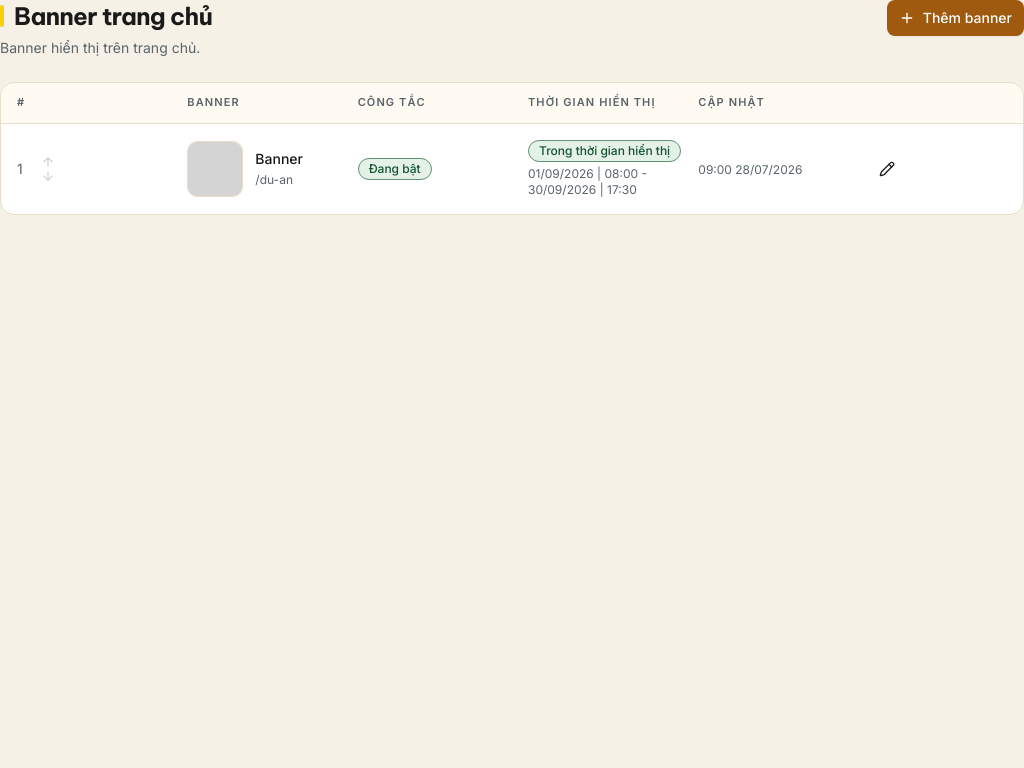
Test: Form banner — phần “Thời gian hiển thị” › nạp cửa sổ đang lưu lên ô nhập theo GIỜ VIỆT NAM
Step 1. Click the button named "Sửa banner" → (887, 168), box x1=869 y1=152 x2=905 y2=184
(page scrolled)
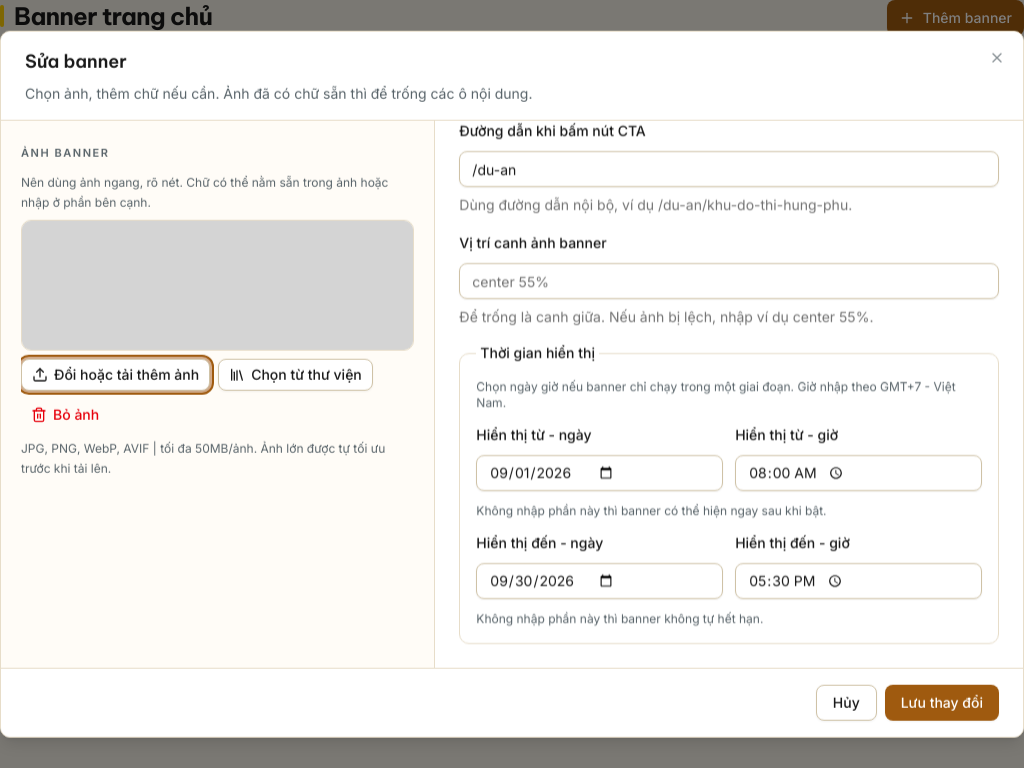
Expected: the date field labelled "Hiển thị từ - ngày" holds "2026-09-01", x1=476 y1=455 x2=723 y2=491
Expected: the time field labelled "Hiển thị từ - giờ" holds "08:00", x1=735 y1=455 x2=982 y2=491
Expected: the date field labelled "Hiển thị đến - ngày" holds "2026-09-30", x1=476 y1=563 x2=723 y2=599
